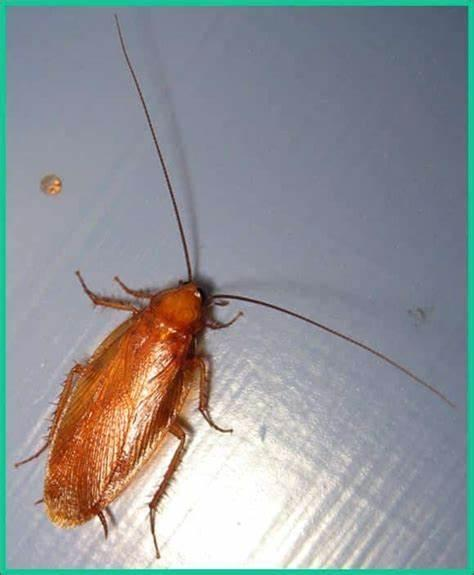cockroach: (39, 274, 216, 534)
